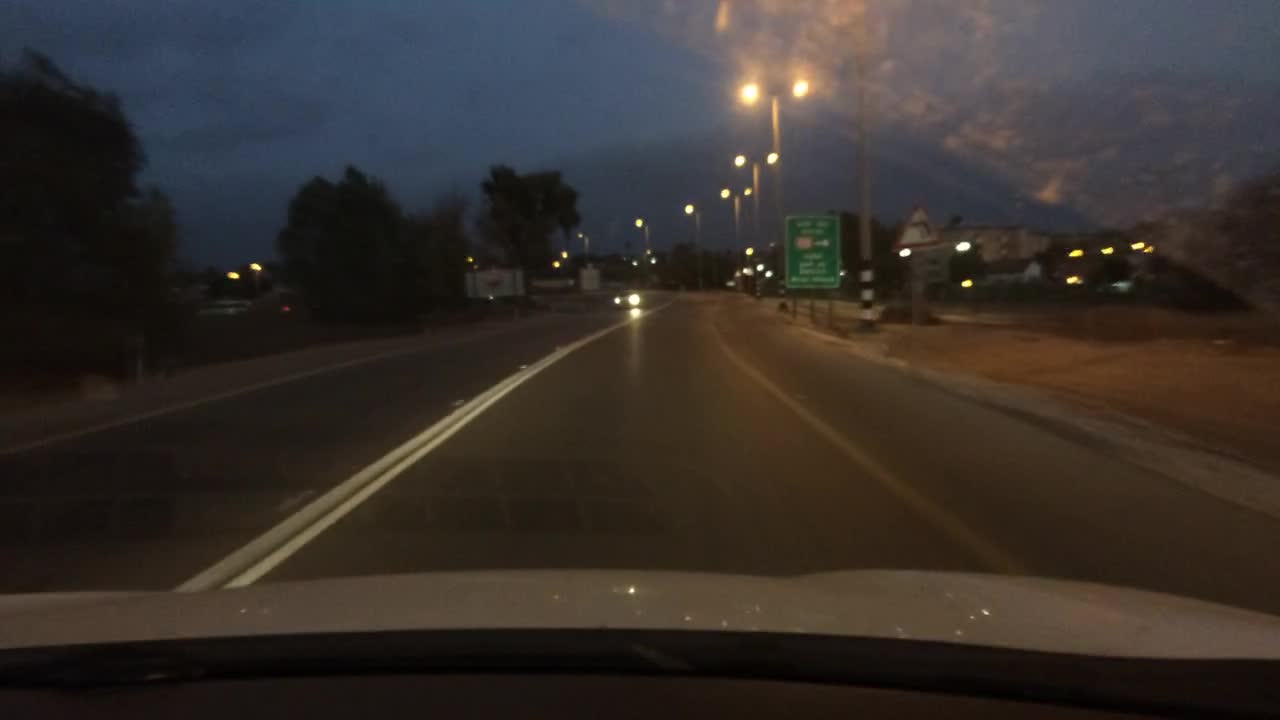car: (196, 298, 250, 319), (611, 287, 651, 310)
traffic sign: (781, 212, 840, 290), (887, 204, 943, 251), (460, 268, 521, 297)
